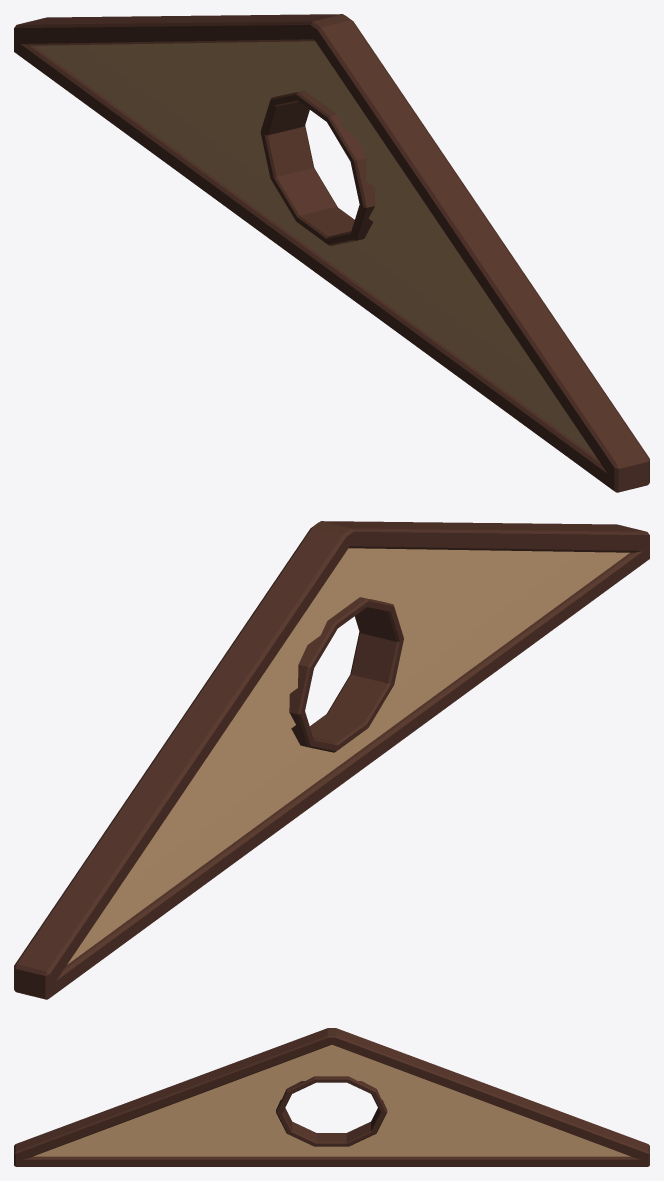
Rendered from sign-d.glb.
The picture shows the model from 3 angles, top to bottom: view 1: azimuth 30°, elevation 25°; view 2: azimuth 150°, elevation 25°; view 3: azimuth 270°, elevation 25°; orthographic projection. The views are drawn at different scales.
Visible parts, largest first — view 1: Sign D (×2); view 2: Sign D (×2); view 3: Sign D (×2).
Boxes of the visible parts, x1,y1,x2,y2 form: Sign D (×2): (14, 14, 649, 492); Sign D (×2): (14, 521, 649, 999); Sign D (×2): (14, 1028, 649, 1166).
Size of the model in its own units: 0.2565 by 1.5 by 6.6.
